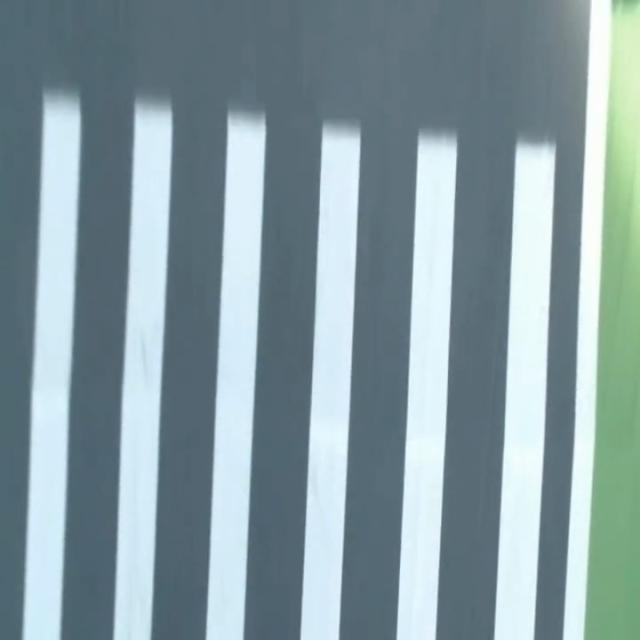right: (563, 0, 611, 639)
